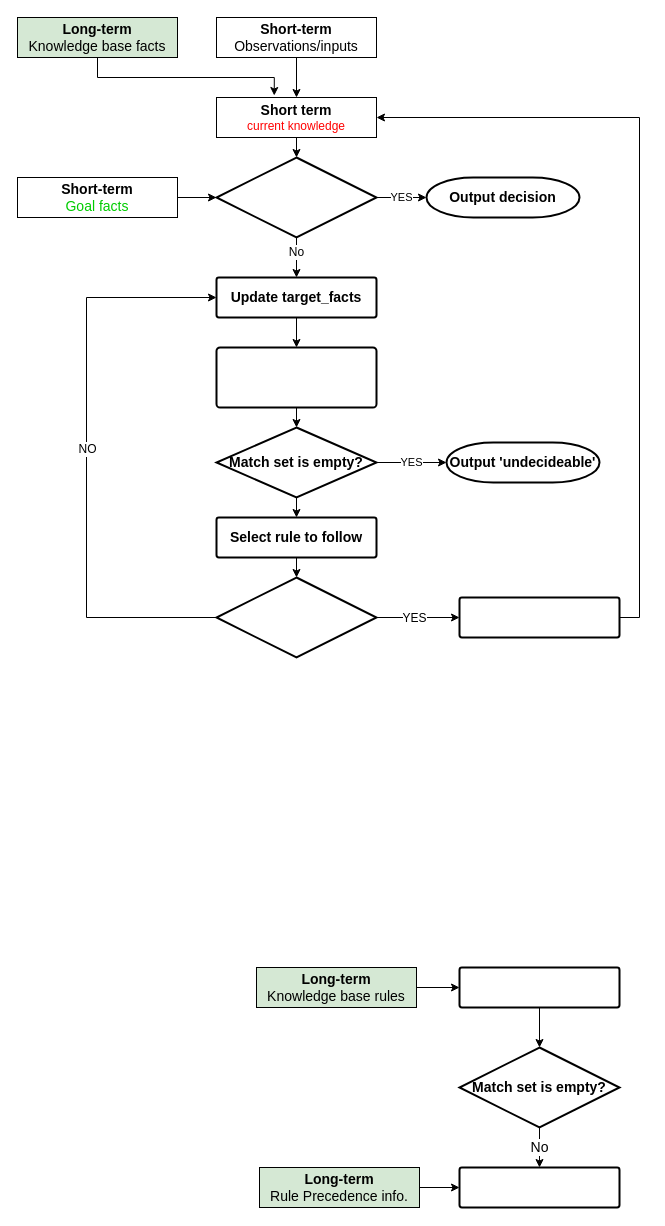
Some shapes in this 665 by 1226 pixel diagram are drawn without their labels. The centre of each missing label's shape, as x and y in pixels:
Apply rule to infer new facts: pixel 539 617
Assertions in short term memory infer goal?: pixel 296 197
Choose and Apply Rule: pixel 539 1187
Find Match-set: pixel 539 987
Find Match-set of rules that assert some target_facts: pixel 296 377
Rule conditions met?: pixel 296 617
